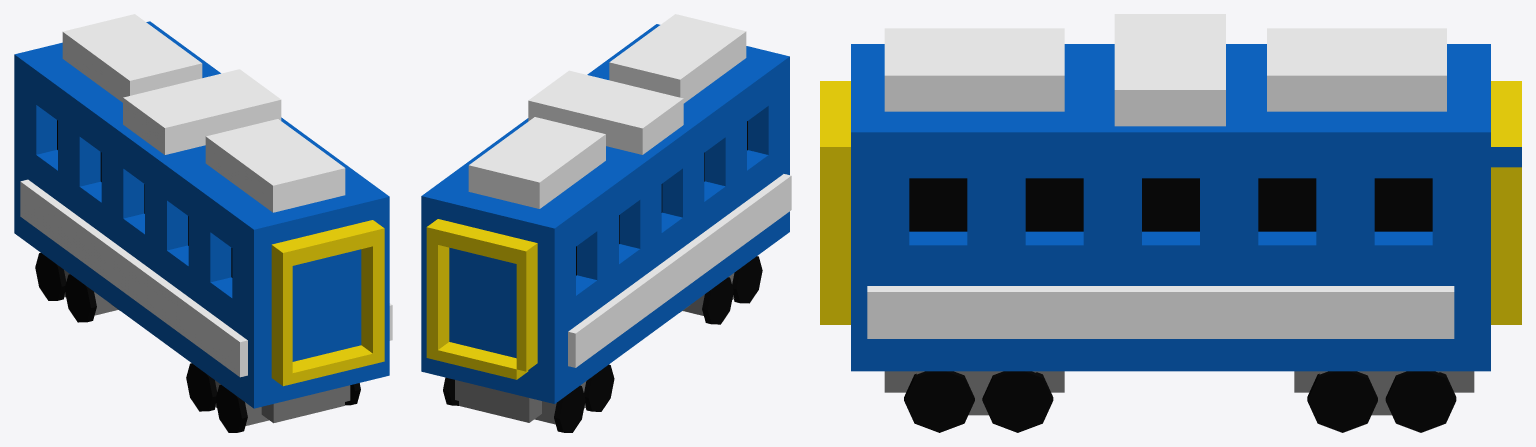
File: Train.glb
The picture shows the model from 3 angles, left to right: view 1: azimuth 30°, elevation 25°; view 2: azimuth 150°, elevation 25°; view 3: azimuth 270°, elevation 25°; orthographic projection. The views are drawn at different scales.
Parts seen in each view (by area): view 1: train, wheel6, wheel4, wheel5, wheel7; view 2: train, wheel5, wheel7, wheel4, wheel6; view 3: train, wheel, wheel3, wheel1, wheel2.
Part boxes in pixels (<box>): train: <box>14,14,392,425</box>; wheel6: <box>64,274,96,322</box>; wheel4: <box>215,385,247,432</box>; wheel5: <box>186,363,217,411</box>; wheel7: <box>35,253,66,300</box>; train: <box>421,14,791,424</box>; wheel5: <box>702,277,733,324</box>; wheel7: <box>554,385,585,432</box>; wheel4: <box>732,256,762,303</box>; wheel6: <box>584,364,614,411</box>; train: <box>820,14,1521,415</box>; wheel: <box>982,371,1053,432</box>; wheel3: <box>1385,371,1456,432</box>; wheel1: <box>904,371,974,432</box>; wheel2: <box>1307,371,1377,432</box>.
Bounding box in the file's own units: 3.67 × 5.9 × 10.96.
Materials: 2 (1 with a texture image).
